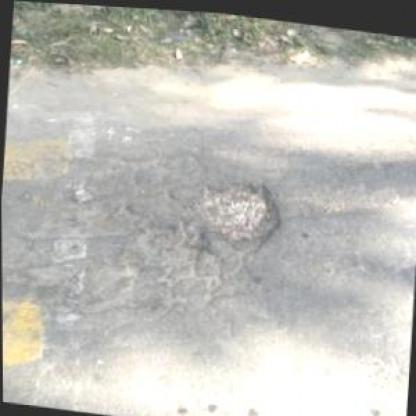pothole: (187, 169, 287, 247), (116, 216, 211, 278)
